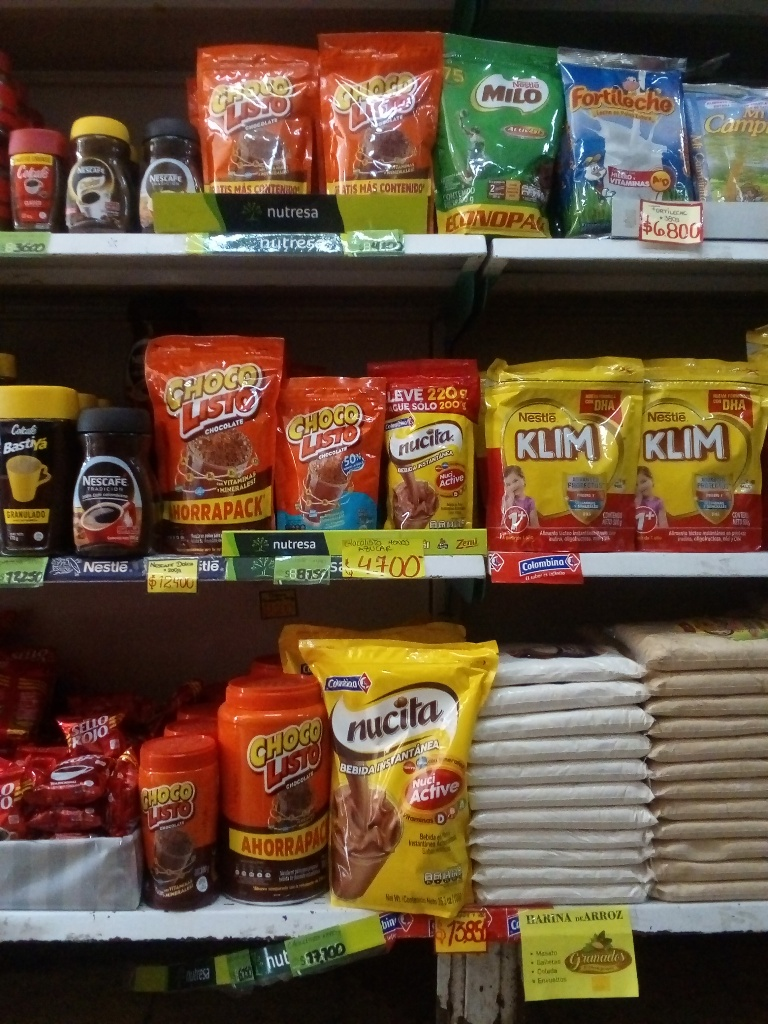COL0170103DYP20000: (195, 40, 313, 199)
COL0170103DYP40000: (146, 334, 282, 552)
COL0170103TRR00100: (225, 676, 329, 905)
COL0170103TRR30000: (136, 730, 223, 911)
COL0170104DYP20000: (273, 369, 382, 532)
COL0170203DYP25000: (437, 34, 565, 234)
